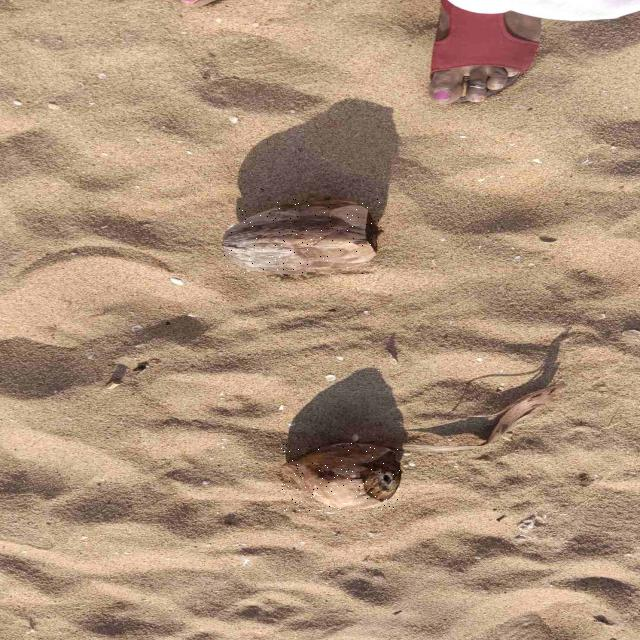biowaste: (222, 199, 380, 273), (281, 443, 400, 511)
